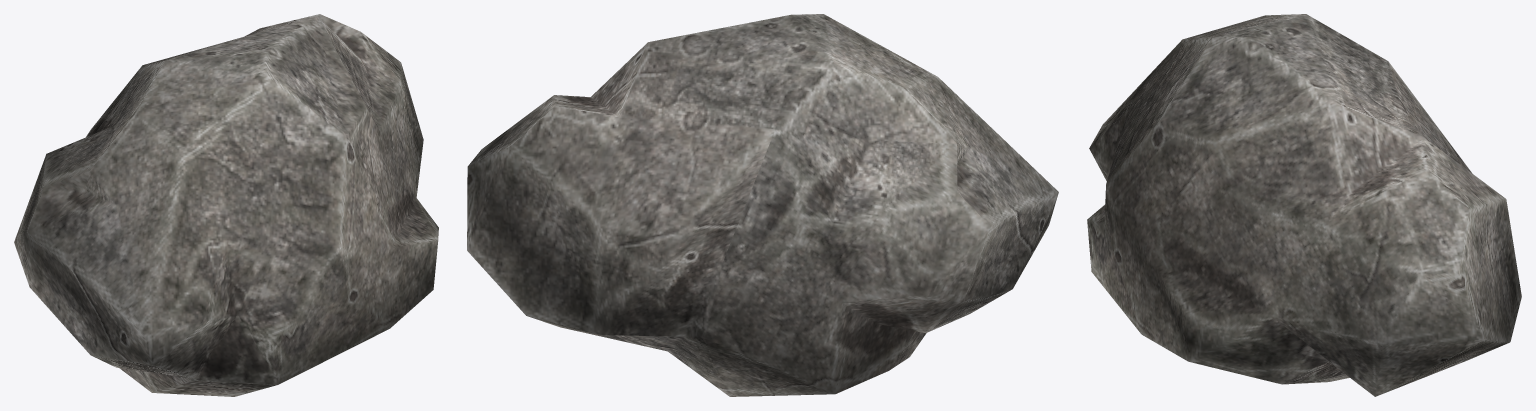
The model's file is Rock1.glb.
3 views of the same model, side by side, from view 1: azimuth 30°, elevation 25°; view 2: azimuth 150°, elevation 25°; view 3: azimuth 270°, elevation 25° (orthographic). The views are drawn at different scales.
Parts seen in each view (by area): view 1: Rock1; view 2: Rock1; view 3: Rock1.
Part boxes in pixels (x1,y1,x2,y2): Rock1: (14, 14, 438, 396); Rock1: (467, 14, 1058, 396); Rock1: (1087, 14, 1521, 396).
Size of the model in its own units: 0.2756 by 0.1963 by 0.23.
1 material, 1 textured.
